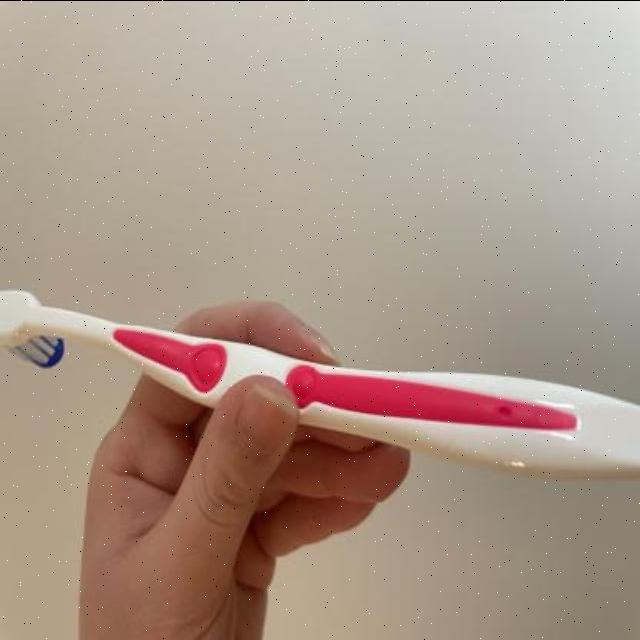toothbrush: (6, 276, 640, 478)
